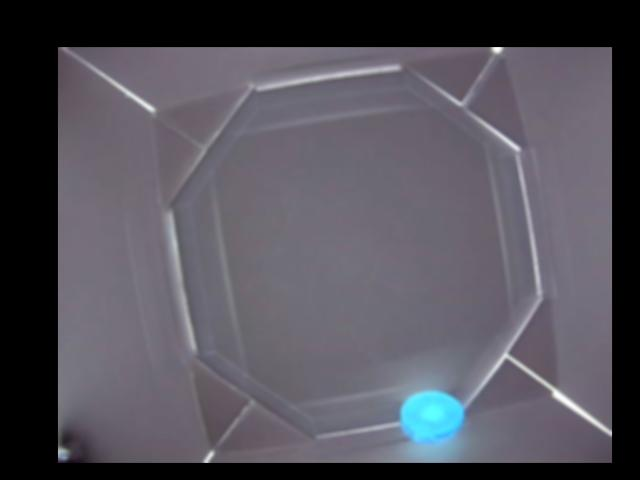Carrot: (399, 390, 464, 442)
